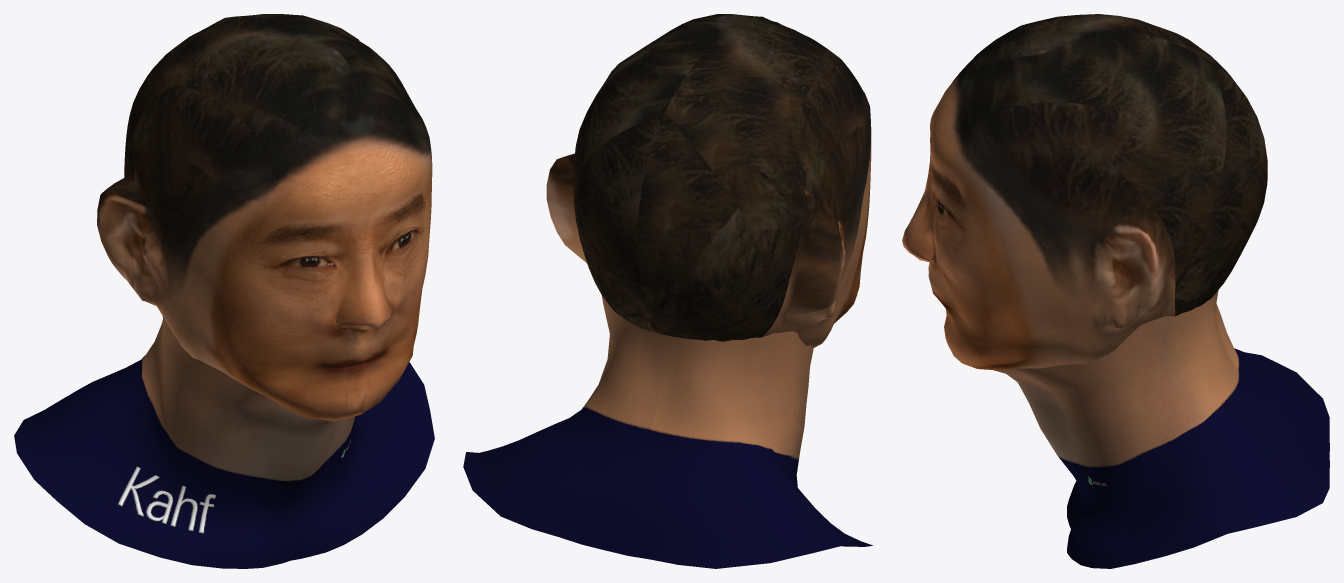
The model's file is 3D_KAHF_HeadNeck_Rectangle.glb.
The picture shows the model from 3 angles, left to right: view 1: azimuth 30°, elevation 25°; view 2: azimuth 150°, elevation 25°; view 3: azimuth 270°, elevation 25°; orthographic projection. The views are drawn at different scales.
Visible parts, largest first — view 1: HEAD - SQUARE SHAPE.003, NECK - SQAURE SHAPE.005; view 2: HEAD - SQUARE SHAPE.003, NECK - SQAURE SHAPE.005; view 3: HEAD - SQUARE SHAPE.003, NECK - SQAURE SHAPE.005.
Boxes of the visible parts, box(x1,y1,x2,y2) form: HEAD - SQUARE SHAPE.003: box(97, 14, 432, 421); NECK - SQAURE SHAPE.005: box(14, 316, 434, 568); HEAD - SQUARE SHAPE.003: box(546, 14, 871, 347); NECK - SQAURE SHAPE.005: box(463, 275, 872, 568); HEAD - SQUARE SHAPE.003: box(902, 14, 1267, 369); NECK - SQAURE SHAPE.005: box(993, 290, 1329, 568).
Bounding box in the file's own units: 0.2726 × 0.3492 × 0.2669.
Materials: 2 (2 with a texture image).
